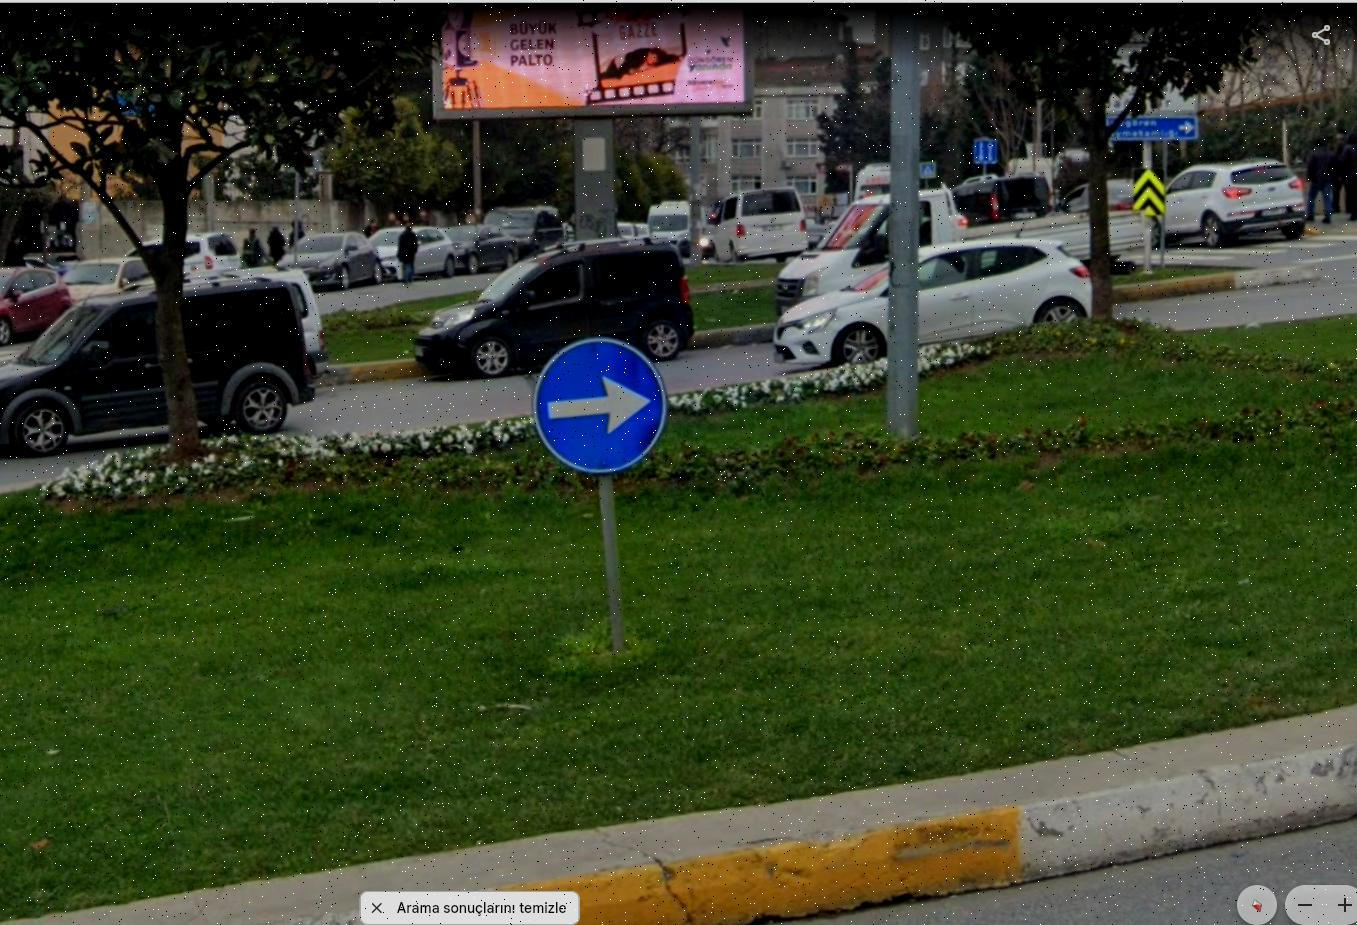turnright: (531, 340, 673, 470)
